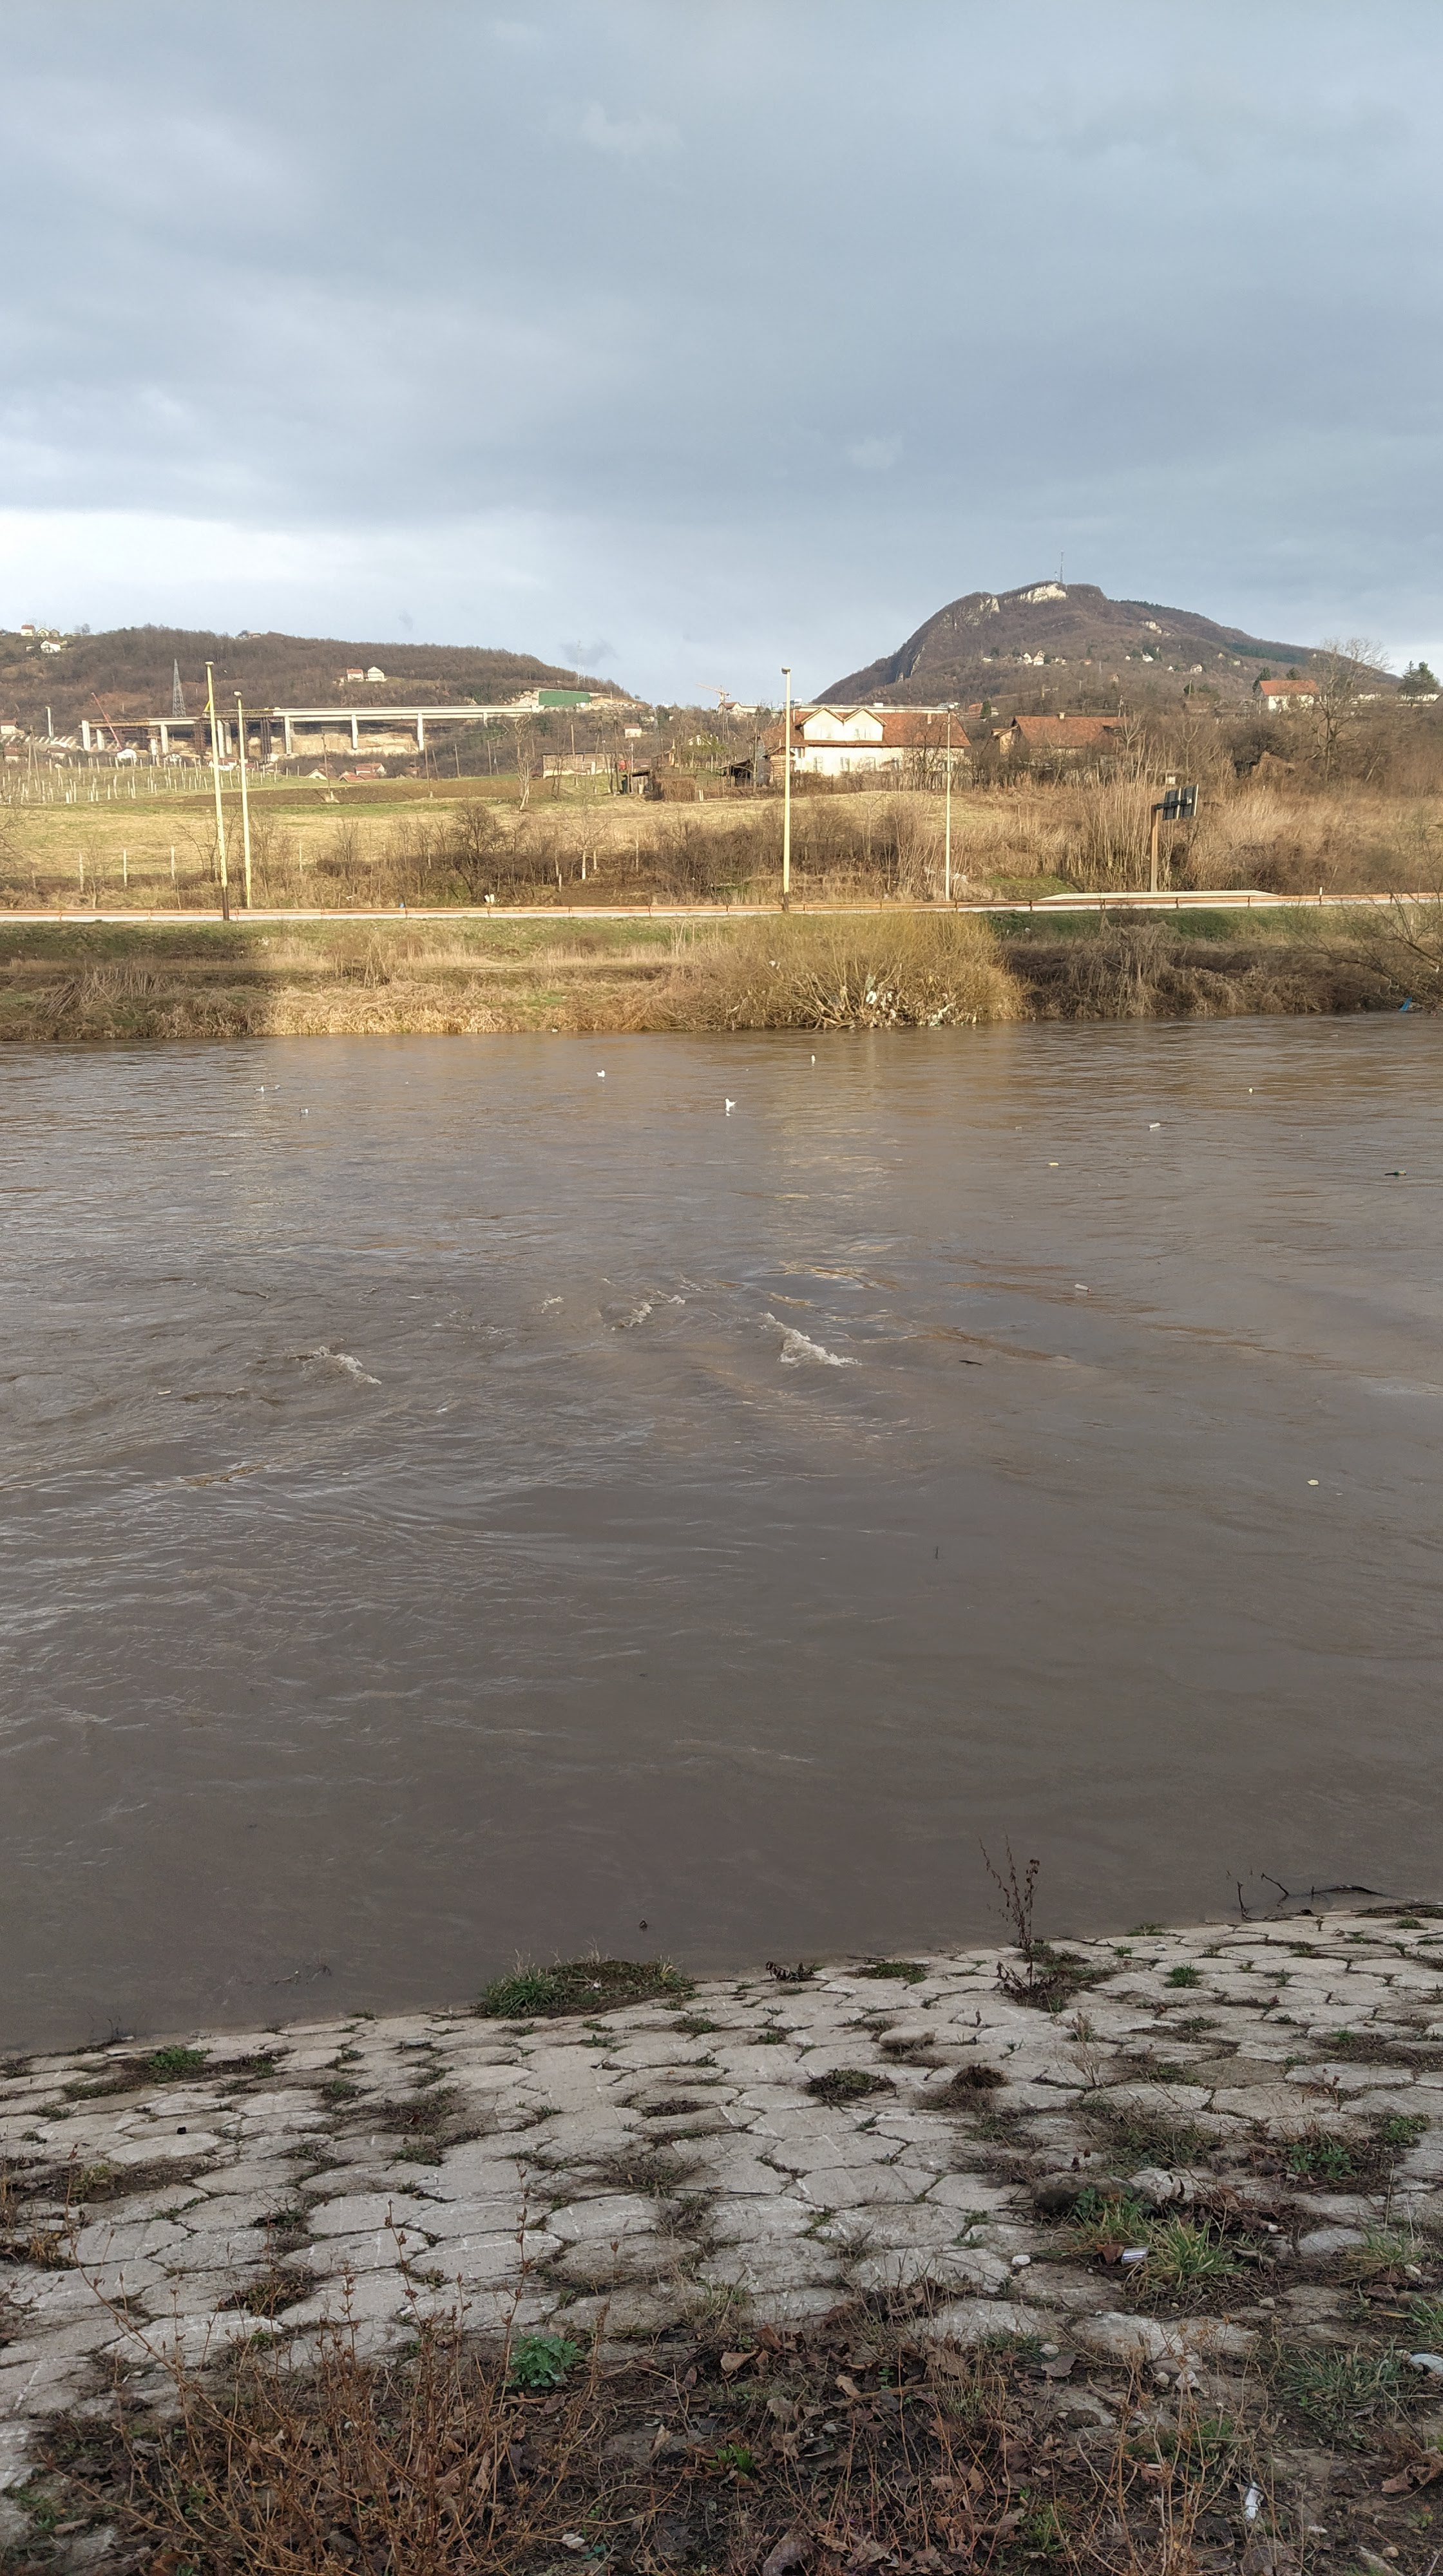Plastic Bottle: (209, 1169, 232, 1177), (1075, 1283, 1089, 1292), (1147, 1122, 1161, 1129), (1393, 1169, 1406, 1175), (1048, 1162, 1059, 1166), (811, 1054, 816, 1062), (1248, 1088, 1252, 1092)
